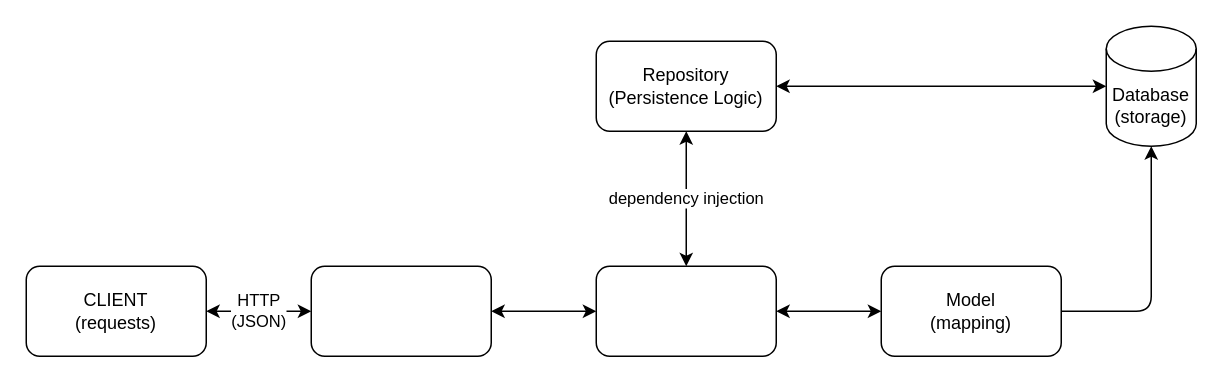
This 1223x383 diagram has some shape labels left out. The shapes that lost their labels are listed below. From the top down, each one's box as (x1, y1, x2, y2) in pixels, then its label:
(310, 265, 491, 356): Controller (API endpoints)
(595, 265, 776, 356): Service (Business Logic)
